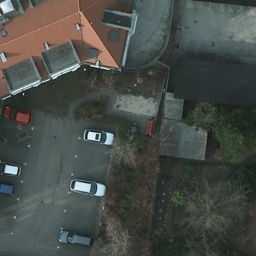car: (68, 179, 108, 197), (57, 228, 92, 245), (82, 130, 115, 147), (3, 107, 35, 124), (1, 160, 21, 176), (1, 184, 16, 196)
